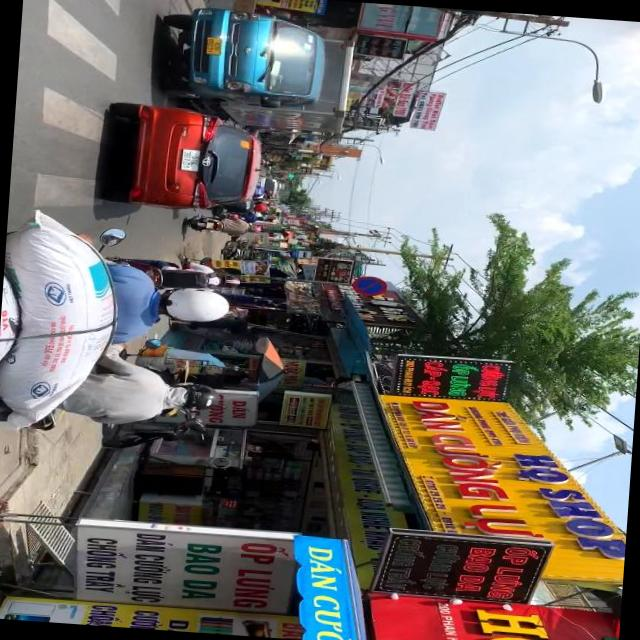P-131a: (350, 274, 389, 299)
